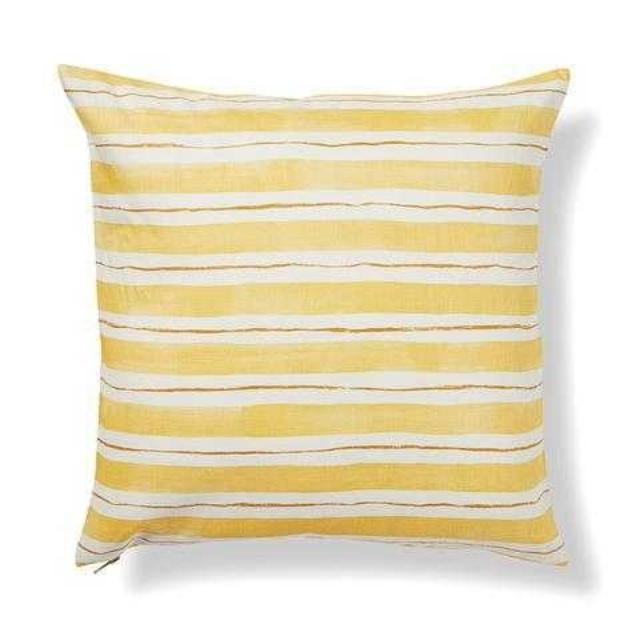pillow: (56, 62, 572, 572)
